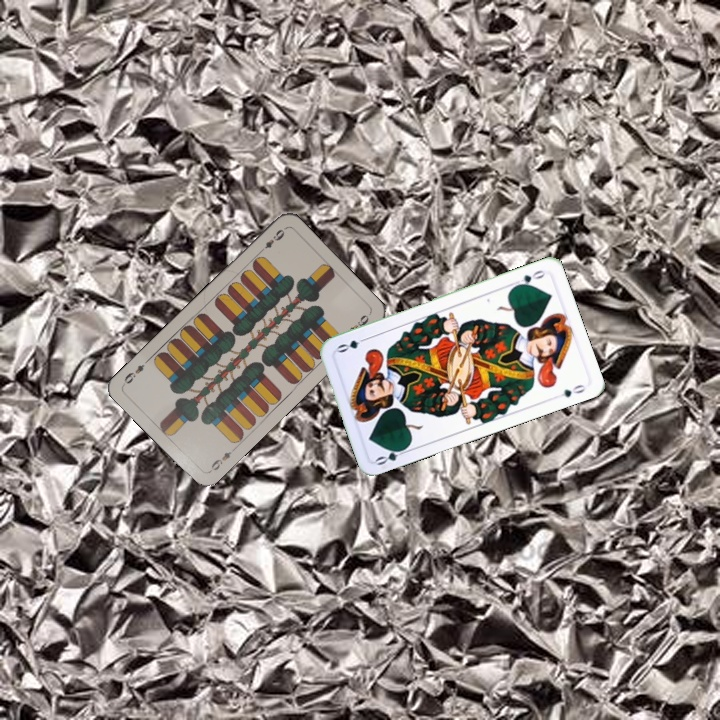E9: (205, 443, 238, 475), (255, 225, 287, 256)
GO: (372, 443, 412, 468), (509, 266, 548, 290)
